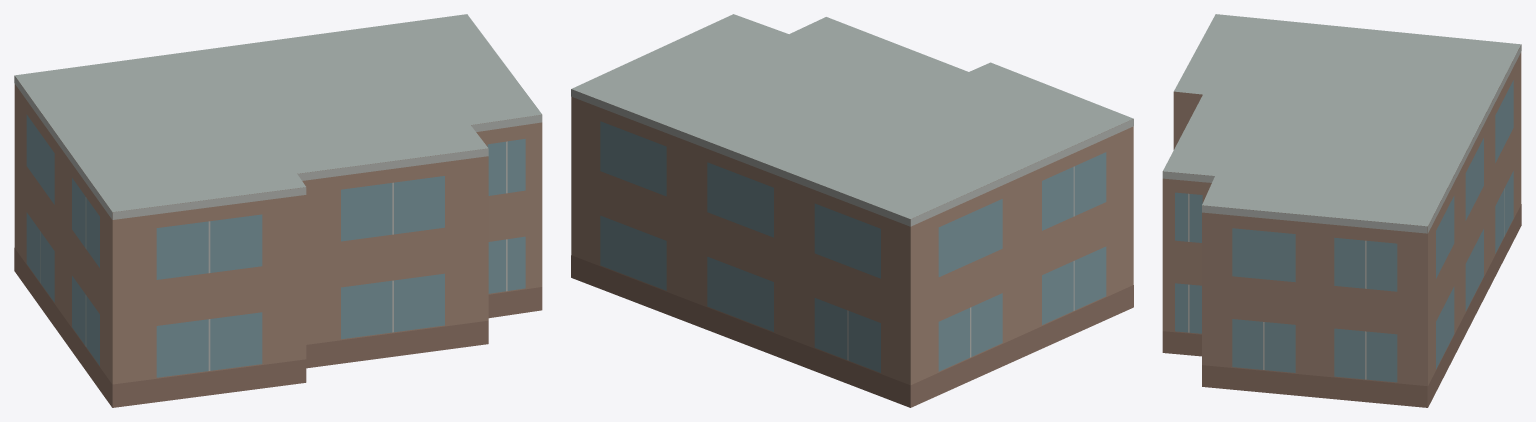
File: survey-upis-32663563.glb
3 views of the same model, side by side, from view 1: azimuth 30°, elevation 25°; view 2: azimuth 150°, elevation 25°; view 3: azimuth 270°, elevation 25° (orthographic). The views are drawn at different scales.
Parts seen in each view (by area): view 1: survey-upis-32663563.tmp; view 2: survey-upis-32663563.tmp; view 3: survey-upis-32663563.tmp.
Boxes of the visible parts, box(x1,y1,x2,y2) form: survey-upis-32663563.tmp: box(14, 14, 542, 407); survey-upis-32663563.tmp: box(571, 14, 1133, 407); survey-upis-32663563.tmp: box(1162, 14, 1521, 407).
Size of the model in its own units: 15.32 by 6.1 by 10.94.
